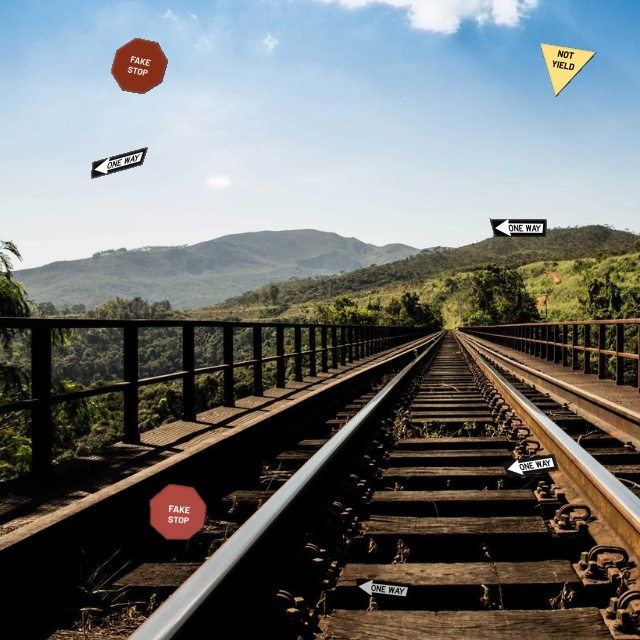FAKE_STOP: (110, 37, 168, 94), (149, 483, 207, 540)
NOT_YIELD: (539, 42, 597, 97)
ONE_WAY_ left: (90, 146, 148, 179), (501, 453, 559, 478), (355, 577, 413, 601), (489, 218, 547, 237)
